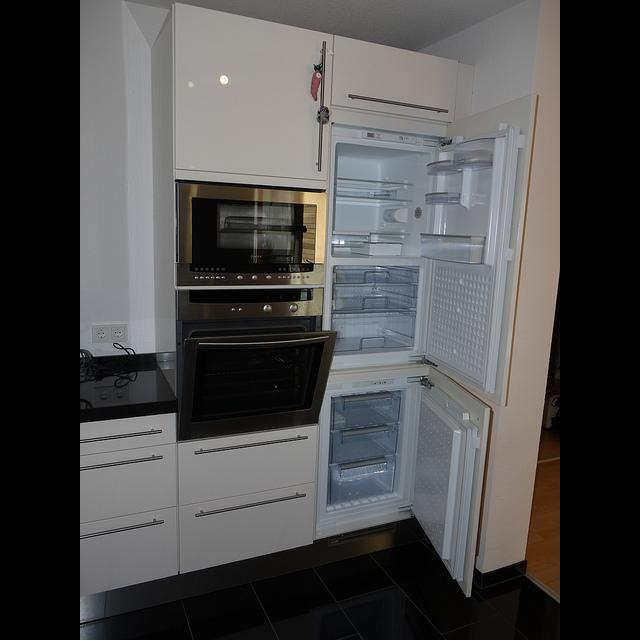Microwave: (190, 197, 317, 269)
Oven: (174, 185, 338, 432)
Refrigerator: (312, 36, 537, 604)
